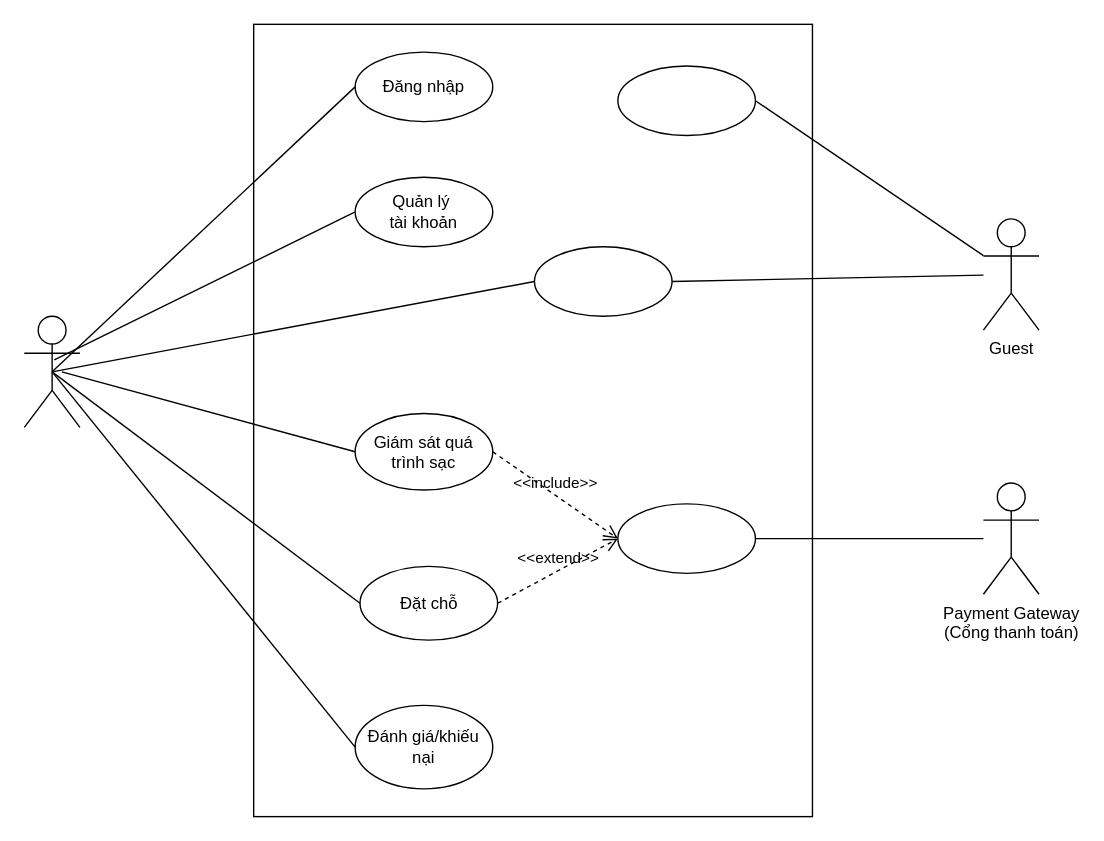
The diagram is 1104 pixels wide and 841 high, and some of its shapes have lost their labels. Each missing label, with the centre of its shape:
"Thanh toán" belongs at point 685,537.
"Tìm kiếm trạm sạc" belongs at point 602,280.
"User" belongs at point 51,371.
"Đăng ký" belongs at point 685,100.
